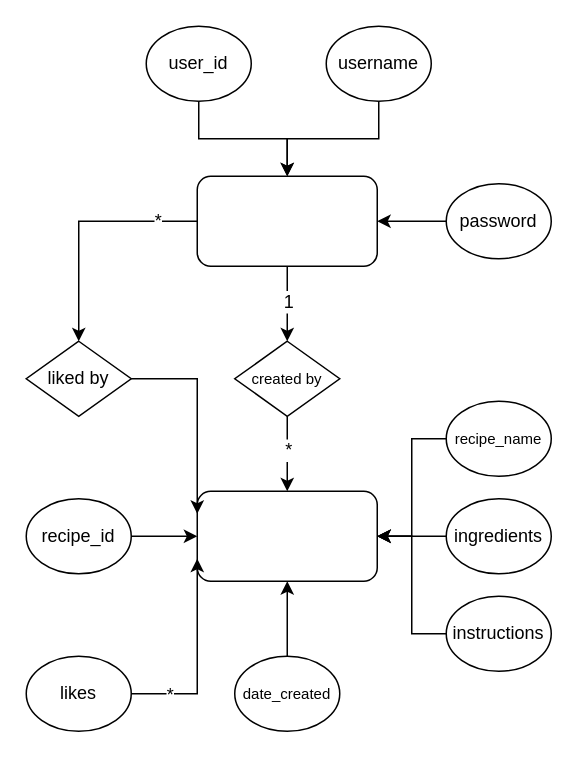
Image size: 578x758. Some labels were removed from this diagram. The centre of each missing label's shape, as x and y in pixels:
"recipe" goes at (286,535).
"user" goes at (286,220).
